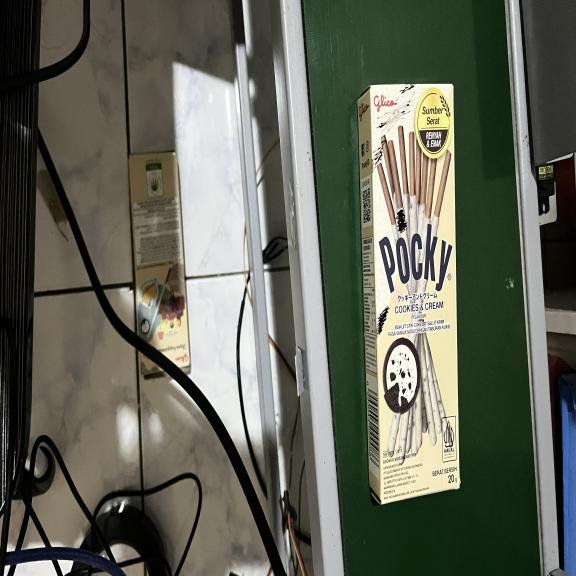Kertas: (372, 82, 462, 506)
